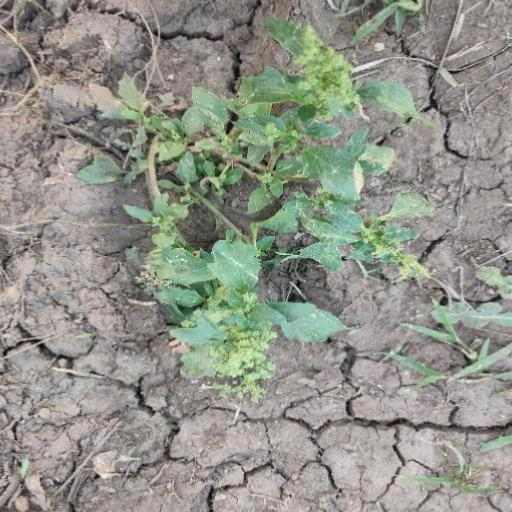weed: (83, 31, 430, 415)
